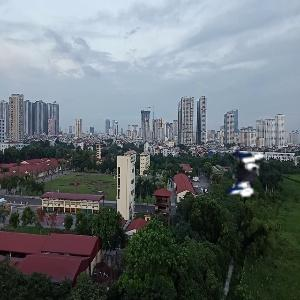drone: (187, 133, 277, 223)
